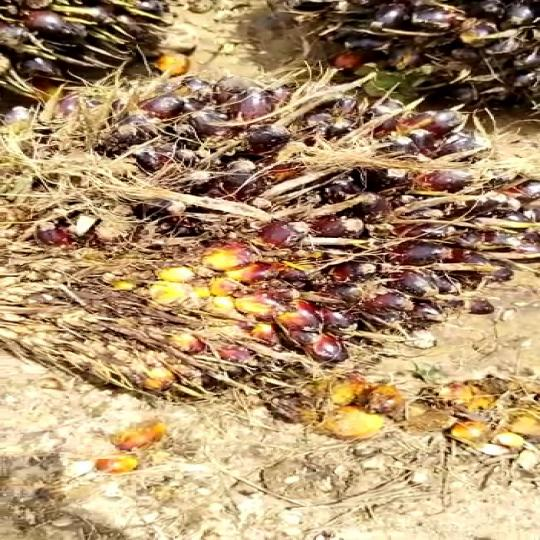mentah: (0, 61, 540, 406)
